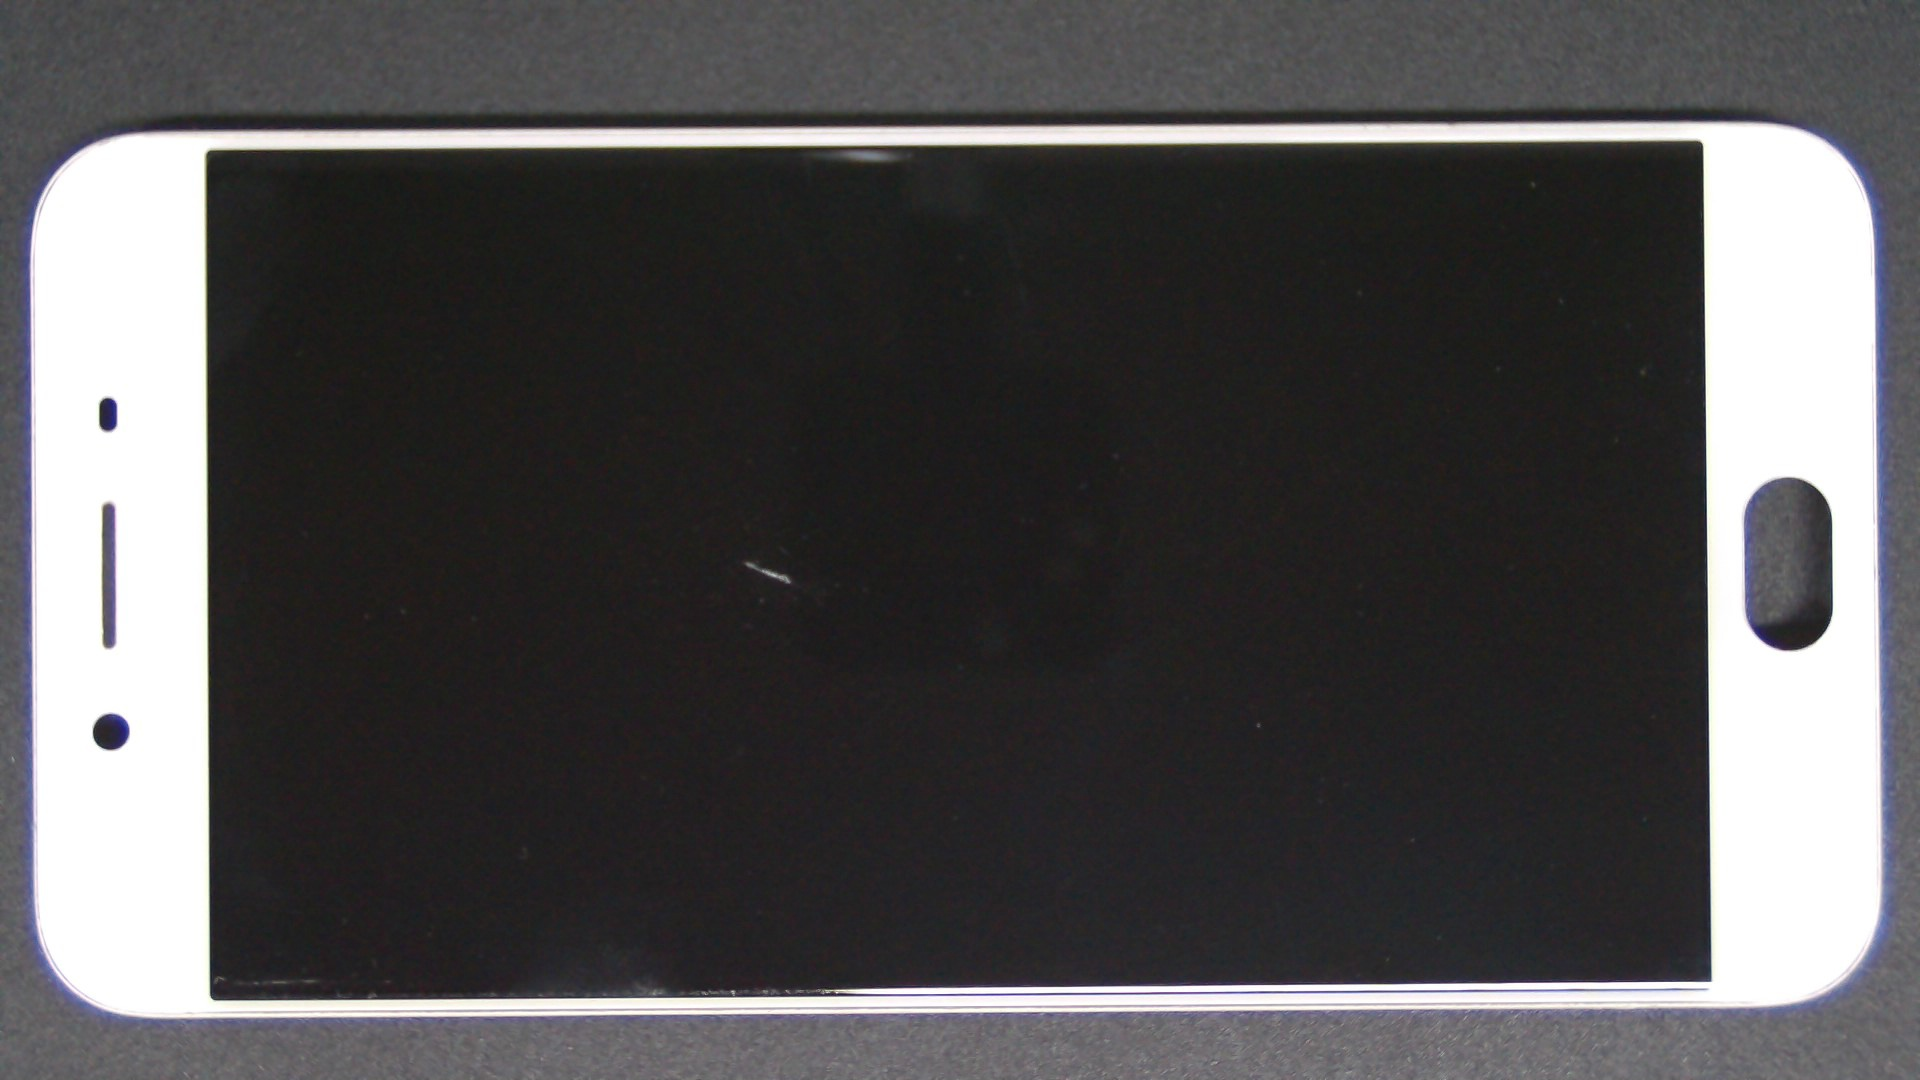oil: (376, 280, 1125, 843)
